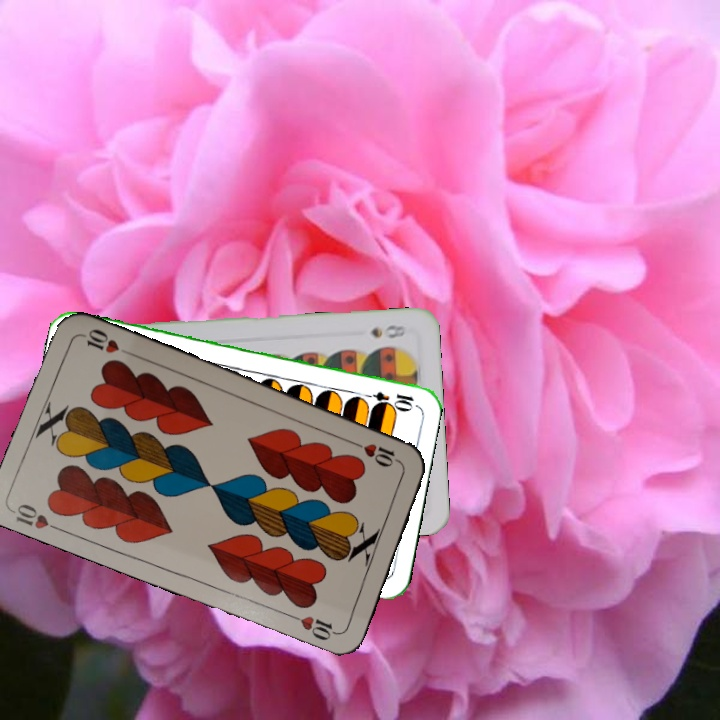E10: (357, 387, 417, 408)
H10: (9, 500, 66, 535), (347, 437, 404, 469)
S8: (366, 321, 408, 341)
